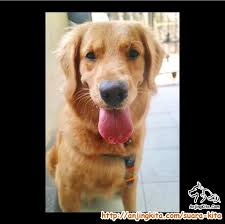Golden Retriever: (50, 22, 180, 207)
